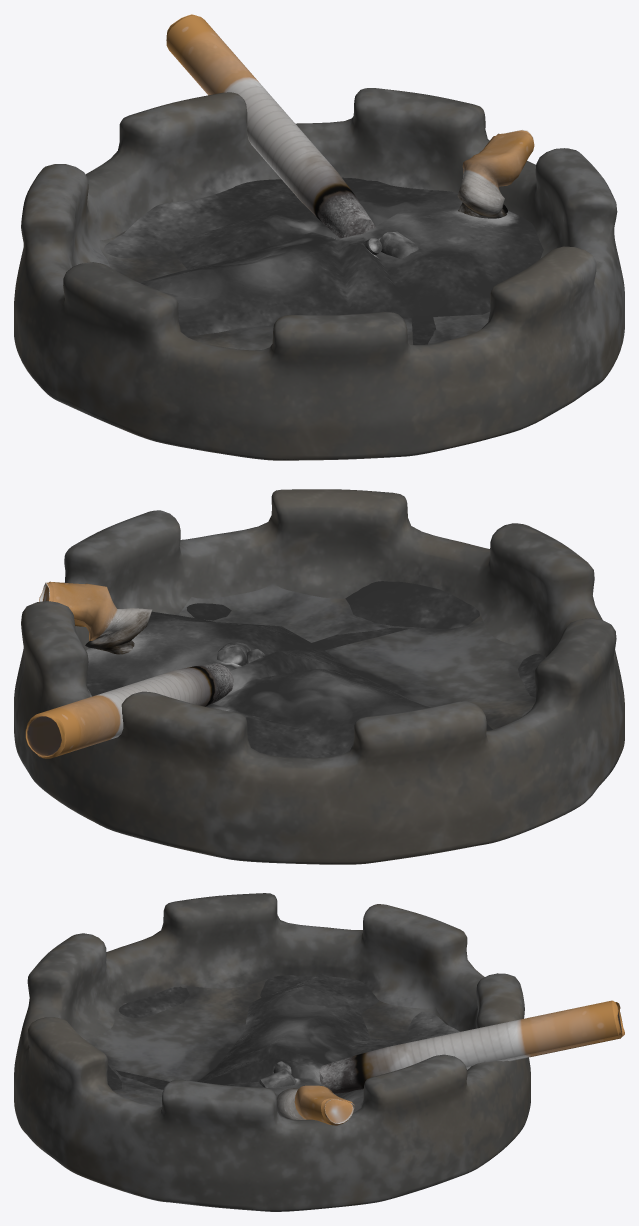
Rendered from ashtray.fbx.
3 views of the same model, one above another, from view 1: azimuth 30°, elevation 25°; view 2: azimuth 150°, elevation 25°; view 3: azimuth 270°, elevation 25° (orthographic). The views are drawn at different scales.
Parts seen in each view (by area): view 1: ashtray, ash, cigarette, cigarette1, ash2; view 2: ashtray, ash, cigarette, cigarette1, ash2; view 3: ashtray, ash, cigarette, cigarette1, ash2.
Boxes of the visible parts, x1=… form: ashtray: x1=14, y1=88, x2=624, y2=460; ash: x1=104, y1=177, x2=543, y2=344; cigarette: x1=166, y1=14, x2=375, y2=238; cigarette1: x1=457, y1=129, x2=534, y2=218; ash2: x1=379, y1=231, x2=420, y2=258; ashtray: x1=14, y1=489, x2=624, y2=864; ash: x1=86, y1=581, x2=545, y2=757; cigarette: x1=25, y1=663, x2=233, y2=758; cigarette1: x1=39, y1=581, x2=152, y2=654; ash2: x1=217, y1=642, x2=250, y2=665; ashtray: x1=14, y1=893, x2=530, y2=1211; ash: x1=107, y1=973, x2=460, y2=1112; cigarette: x1=319, y1=1000, x2=624, y2=1093; cigarette1: x1=276, y1=1085, x2=354, y2=1125; ash2: x1=259, y1=1069, x2=296, y2=1087.
Size of the model in its own units: 14.11 by 3.97 by 16.59.
